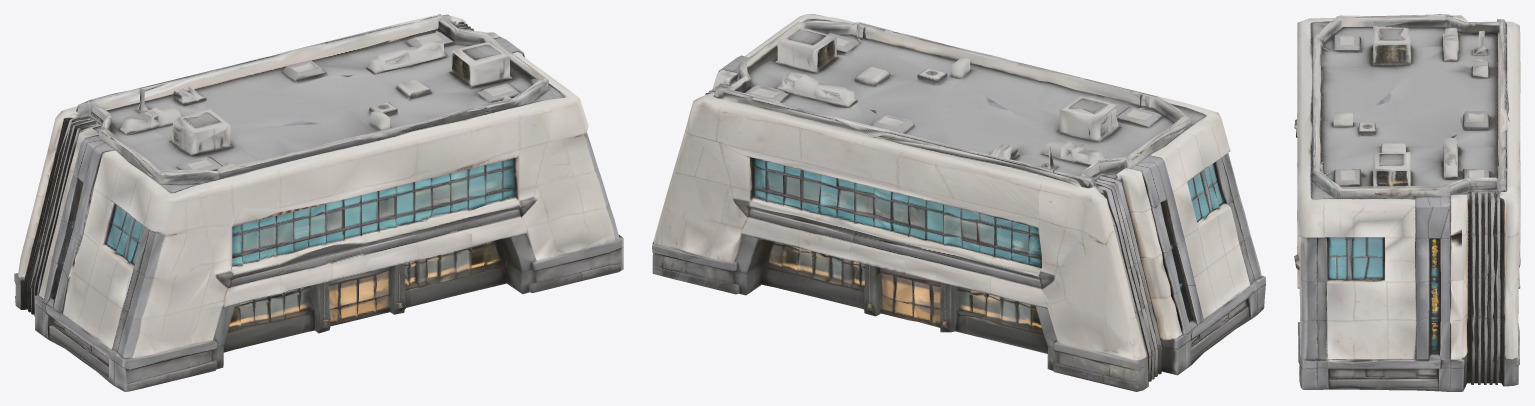
Rendered from facetedWing.glb.
3 views of the same model, side by side, from view 1: azimuth 30°, elevation 25°; view 2: azimuth 150°, elevation 25°; view 3: azimuth 270°, elevation 25° (orthographic). The views are drawn at different scales.
Visible parts, largest first — view 1: facetedWing; view 2: facetedWing; view 3: facetedWing.
Boxes of the visible parts, <box> form: facetedWing: <box>14,14,623,391</box>; facetedWing: <box>652,14,1265,391</box>; facetedWing: <box>1294,14,1520,391</box>.
Bounding box in the file's own units: 40 × 15.69 × 16.94.
Materials: 1 (1 with a texture image).
